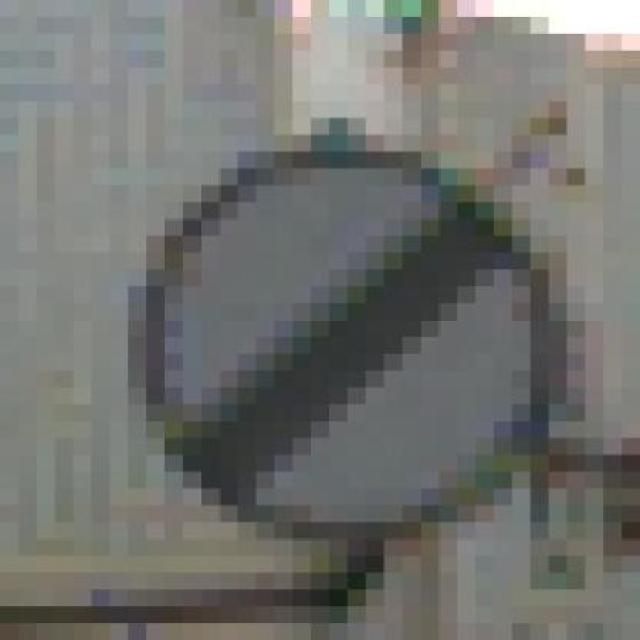End of all speed and passing limits: (110, 101, 585, 556)
